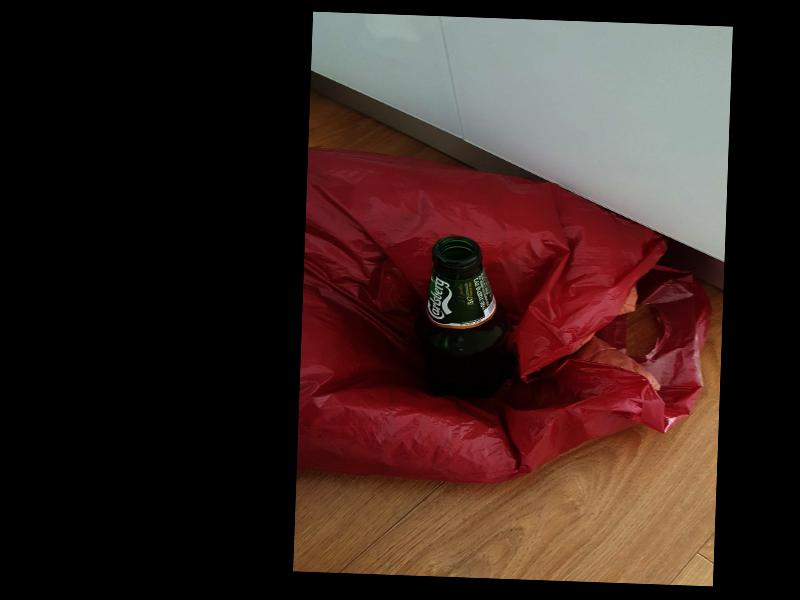Beer: (413, 236, 513, 401)
